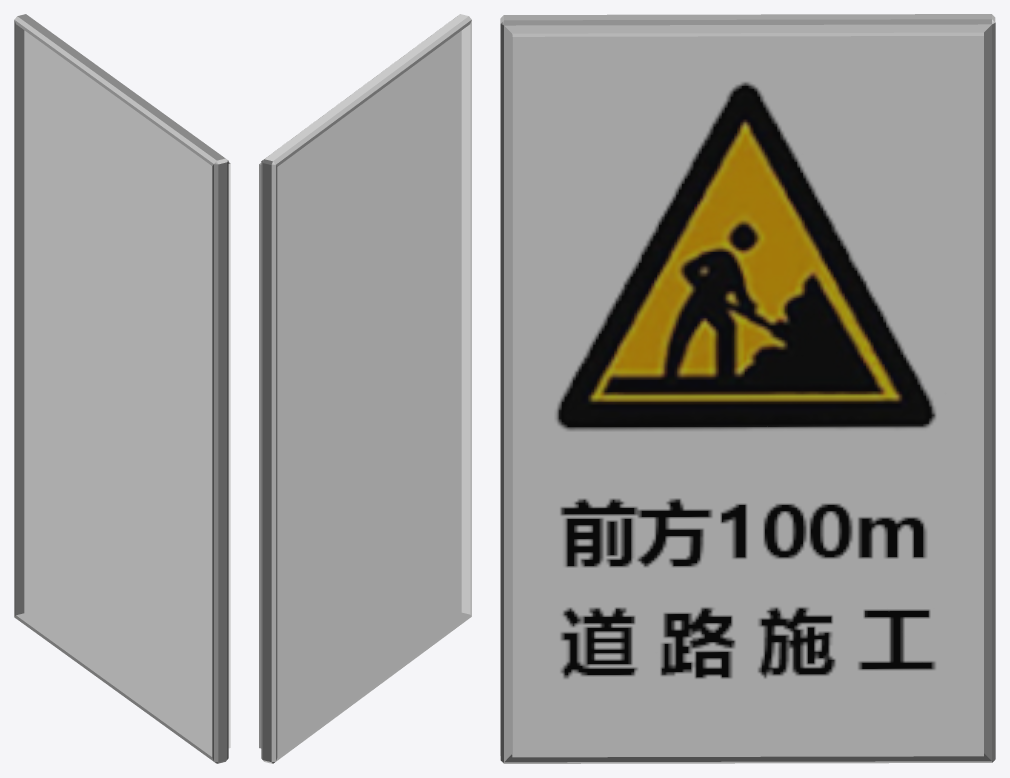
3 renders of one model, left to right at view 1: azimuth 30°, elevation 25°; view 2: azimuth 150°, elevation 25°; view 3: azimuth 270°, elevation 25°, orthographic. The views are drawn at different scales.
Parts seen in each view (by area): view 1: model14; view 2: model14; view 3: model14.
Part boxes in pixels (x1,y1,x2,y2): model14: (14,14,230,763); model14: (259,14,471,763); model14: (500,14,995,763).
Bounding box in the file's own units: 0.0927 × 2.46 × 1.49.
Materials: 2 (1 with a texture image).
